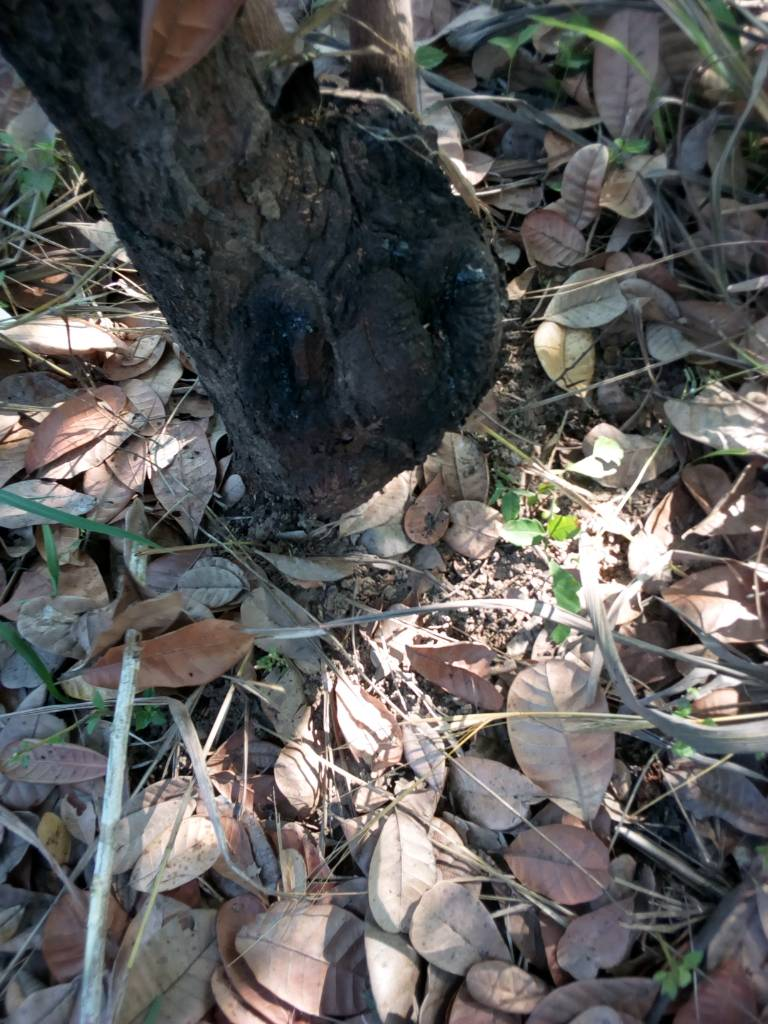Termites: (247, 97, 497, 450)
